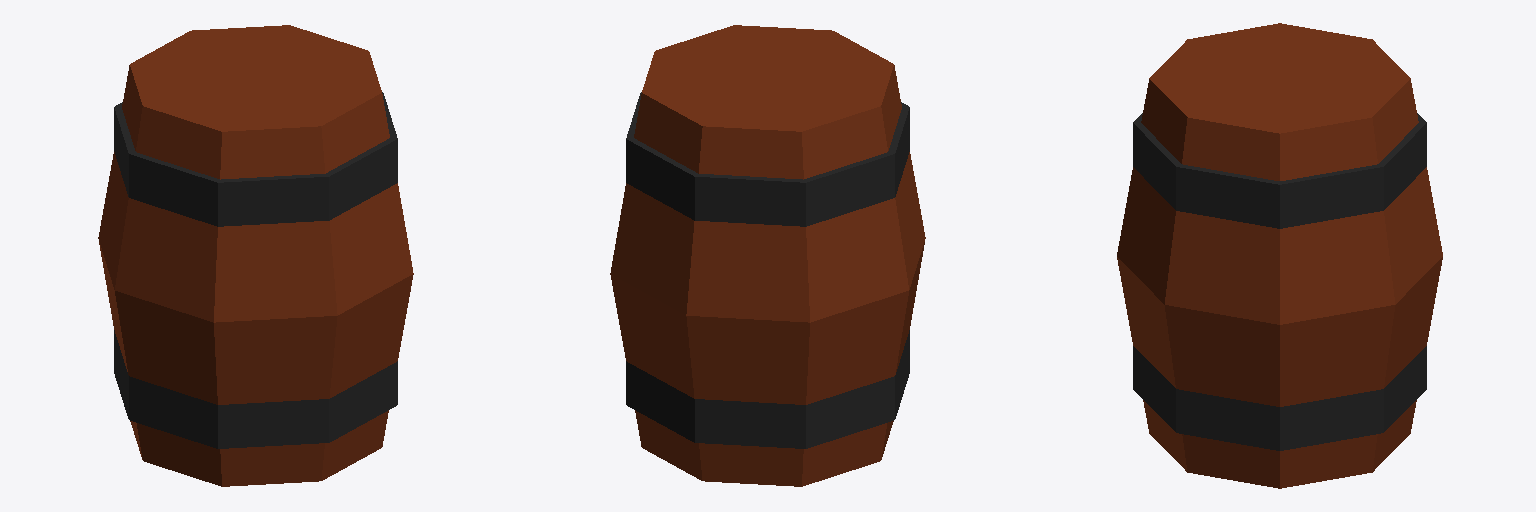
The model's file is barrel1.obj.
3 renders of one model, left to right at view 1: azimuth 30°, elevation 25°; view 2: azimuth 150°, elevation 25°; view 3: azimuth 270°, elevation 25°, orthographic.
Parts seen in each view (by area): view 1: Object.1, Object.2, Object.3; view 2: Object.1, Object.2, Object.3; view 3: Object.1, Object.2, Object.3.
Part boxes in pixels (left/top/right/bottom): Object.1: left=98, top=25, right=413, bottom=322; Object.2: left=99, top=242, right=413, bottom=486; Object.3: left=114, top=92, right=397, bottom=448; Object.1: left=610, top=25, right=925, bottom=322; Object.2: left=610, top=242, right=924, bottom=486; Object.3: left=626, top=92, right=909, bottom=448; Object.1: left=1117, top=23, right=1442, bottom=324; Object.2: left=1117, top=257, right=1442, bottom=488; Object.3: left=1133, top=113, right=1426, bottom=450.
Bounding box in the file's own units: 0.8333 × 1 × 0.8333.